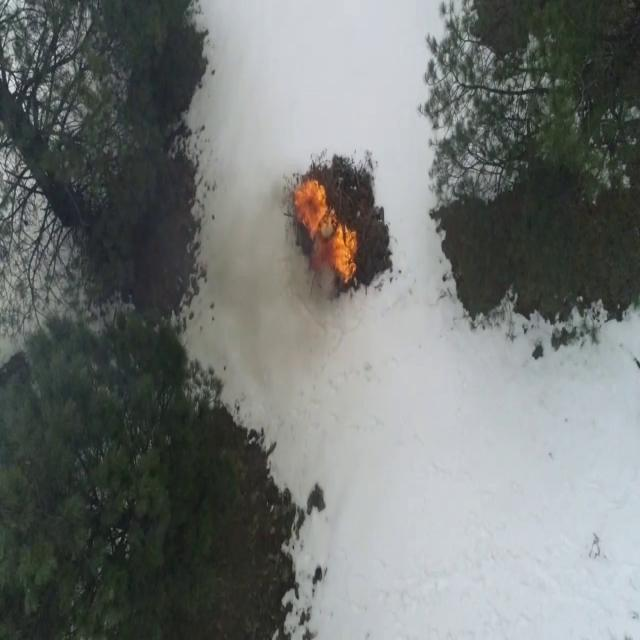fire: (295, 178, 357, 283)
